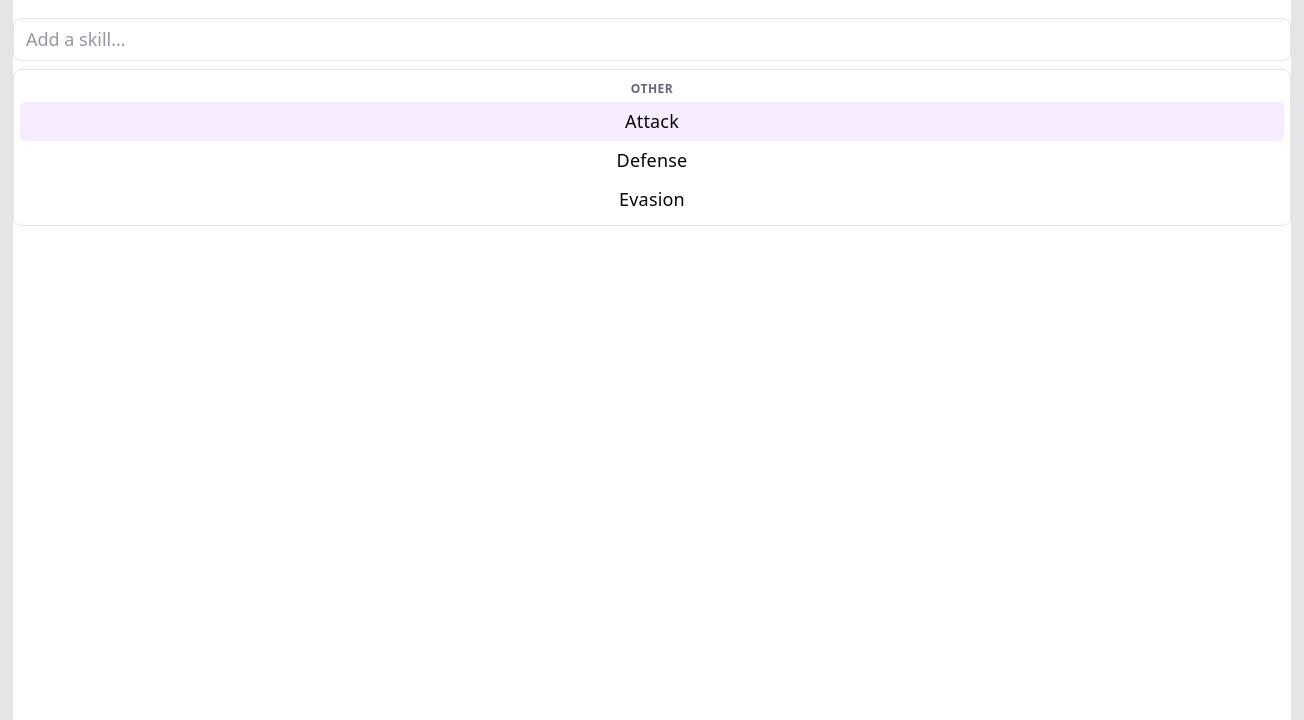
it: SkillPicker › narrows the add-a-skill results as the search text changes
Type "def" into the field labelled "Add a skill…".
click(652, 40); type("def")  # box [13,18,1291,61]
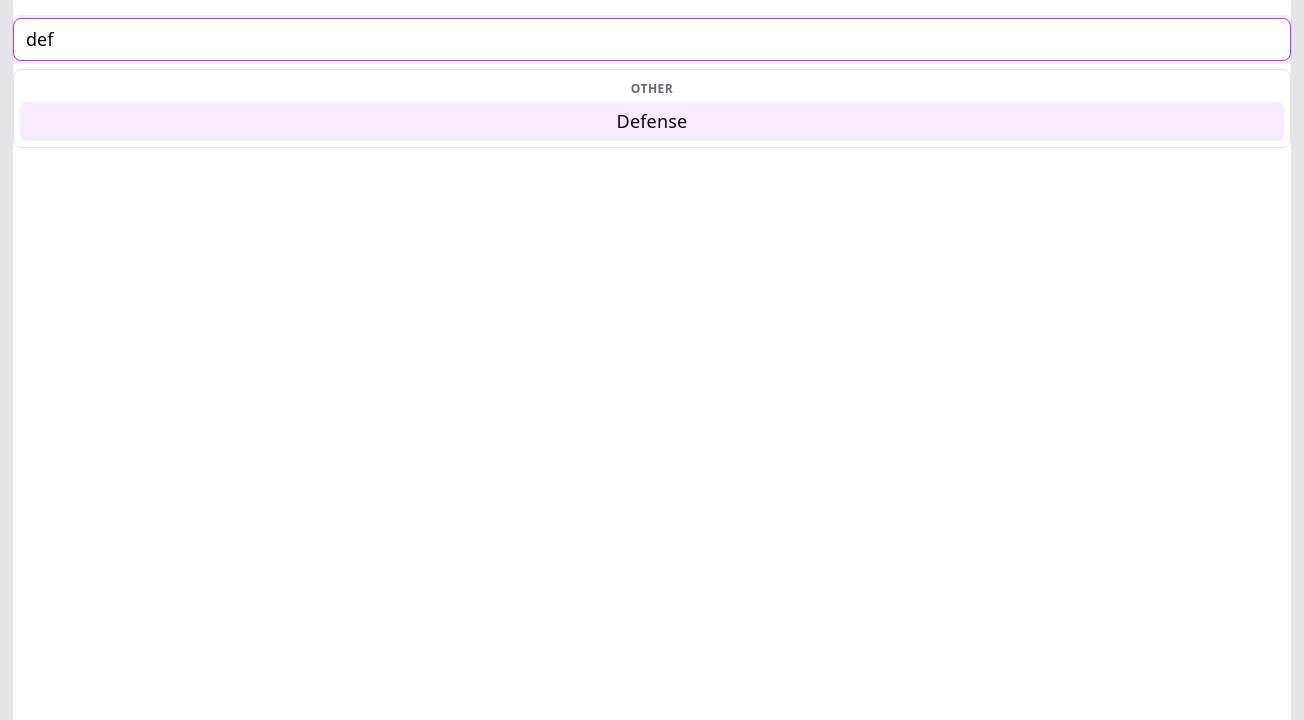
Expected: the button "Defense" is shown, [20,102,1284,141]
Result: the button "Attack" is gone
Result: the button "Evasion" is gone
